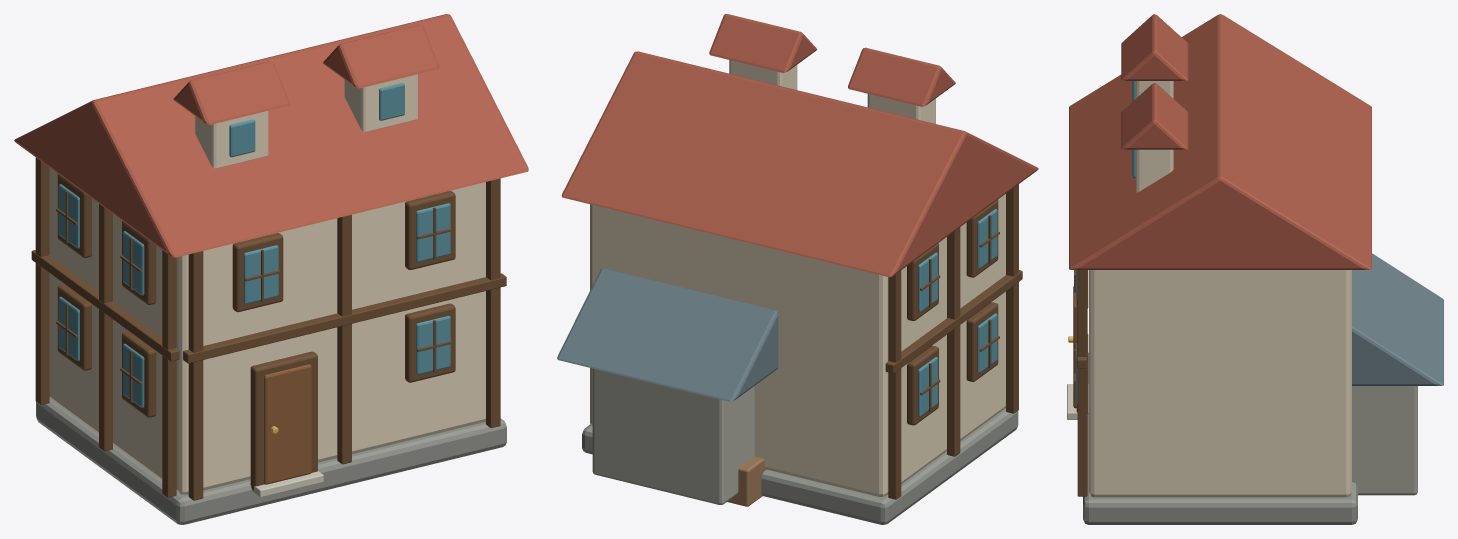
File: temperate-townhouse-3.glb
The picture shows the model from 3 angles, left to right: view 1: azimuth 30°, elevation 25°; view 2: azimuth 150°, elevation 25°; view 3: azimuth 270°, elevation 25°; orthographic projection. The views are drawn at different scales.
Visible parts, largest first — view 1: Clay tiles, Warm lime, Dark beams, Foundation stone, Blue glass, Door oak, Cut limestone; view 2: Clay tiles, Warm lime, Blue slate, Fieldstone, Dark beams, Foundation stone, Blue glass, Aged oak; view 3: Clay tiles, Warm lime, Blue slate, Foundation stone, Fieldstone, Dark beams.
Boxes of the visible parts, x1=… form: Clay tiles: x1=14, y1=14, x2=528, y2=257; Warm lime: x1=49, y1=74, x2=485, y2=494; Dark beams: x1=31, y1=157, x2=506, y2=500; Foundation stone: x1=36, y1=399, x2=506, y2=524; Blue glass: x1=58, y1=83, x2=450, y2=408; Door oak: x1=264, y1=364, x2=311, y2=484; Cut limestone: x1=249, y1=471, x2=323, y2=497; Clay tiles: x1=561, y1=14, x2=1038, y2=277; Warm lime: x1=590, y1=60, x2=1005, y2=496; Blue slate: x1=557, y1=268, x2=778, y2=401; Fieldstone: x1=592, y1=368, x2=754, y2=504; Dark beams: x1=885, y1=184, x2=1022, y2=499; Foundation stone: x1=582, y1=408, x2=1018, y2=524; Blue glass: x1=918, y1=209, x2=997, y2=416; Aged oak: x1=727, y1=456, x2=766, y2=506; Clay tiles: x1=1069, y1=14, x2=1371, y2=269; Warm lime: x1=1089, y1=81, x2=1351, y2=497; Blue slate: x1=1352, y1=253, x2=1443, y2=385; Foundation stone: x1=1083, y1=352, x2=1357, y2=524; Fieldstone: x1=1352, y1=386, x2=1417, y2=495; Dark beams: x1=1074, y1=270, x2=1088, y2=496.
Bounding box in the file's own units: 3.94 × 4.28 × 3.8.
